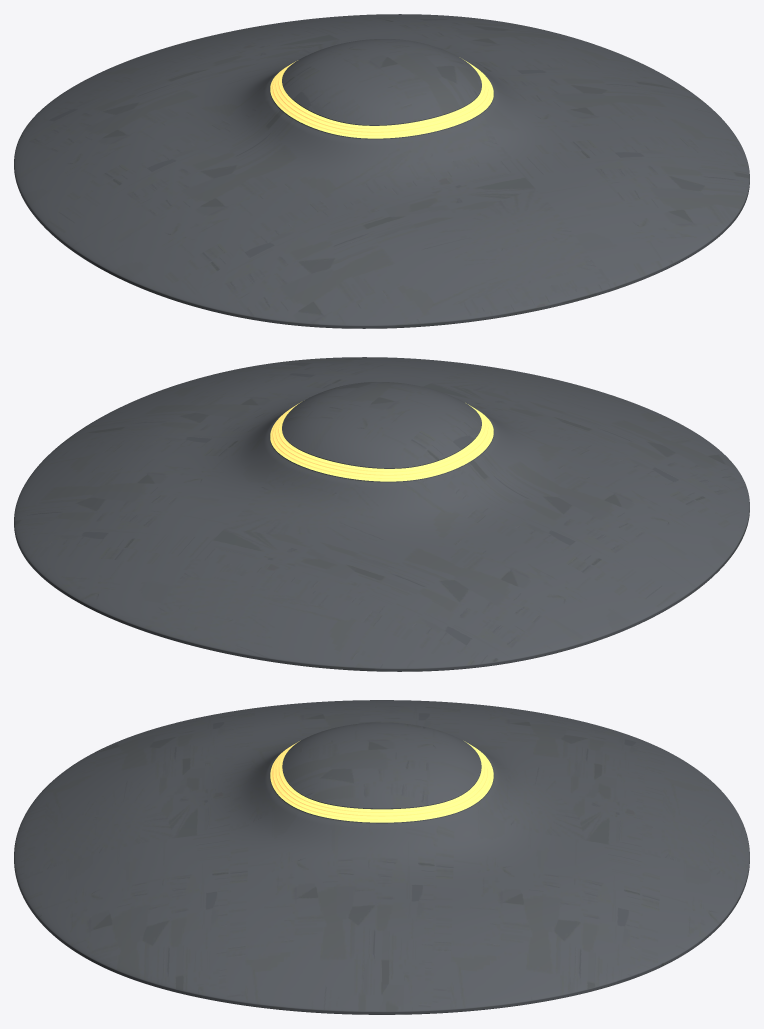
3 renders of one model, top to bottom at view 1: azimuth 30°, elevation 25°; view 2: azimuth 150°, elevation 25°; view 3: azimuth 270°, elevation 25°, orthographic. The views are drawn at different scales.
Visible parts, largest first — view 1: UFO_UFO Metal_0, UFO_Ventanilla_0; view 2: UFO_UFO Metal_0, UFO_Ventanilla_0; view 3: UFO_UFO Metal_0, UFO_Ventanilla_0.
Part boxes in pixels (x1,y1,x2,y2): UFO_UFO Metal_0: [14, 14, 749, 328]; UFO_Ventanilla_0: [270, 59, 493, 138]; UFO_UFO Metal_0: [14, 357, 749, 671]; UFO_Ventanilla_0: [270, 402, 493, 481]; UFO_UFO Metal_0: [14, 700, 749, 1014]; UFO_Ventanilla_0: [270, 741, 493, 822].
Size of the model in its own units: 9.37 by 2.49 by 9.37.
3 materials, 2 textured.
